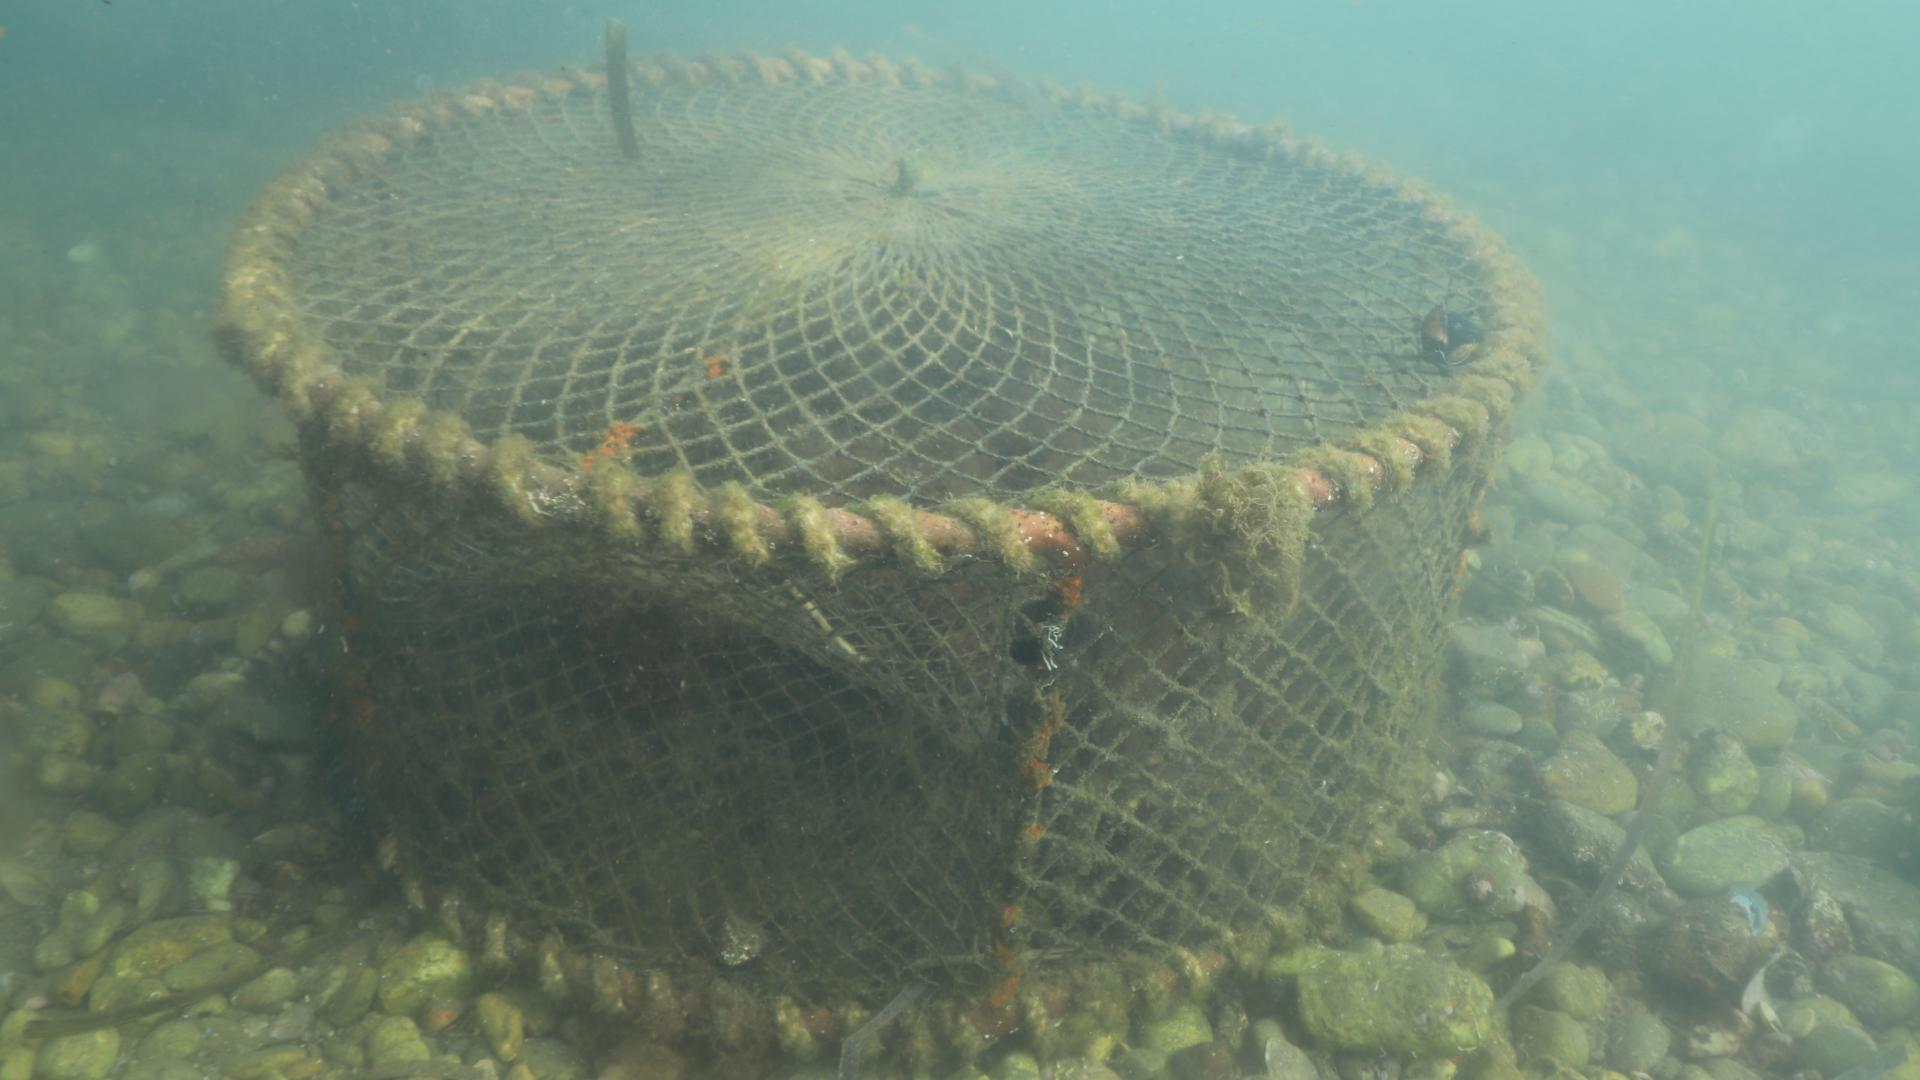circular fish trap: (212, 44, 1551, 1060)
